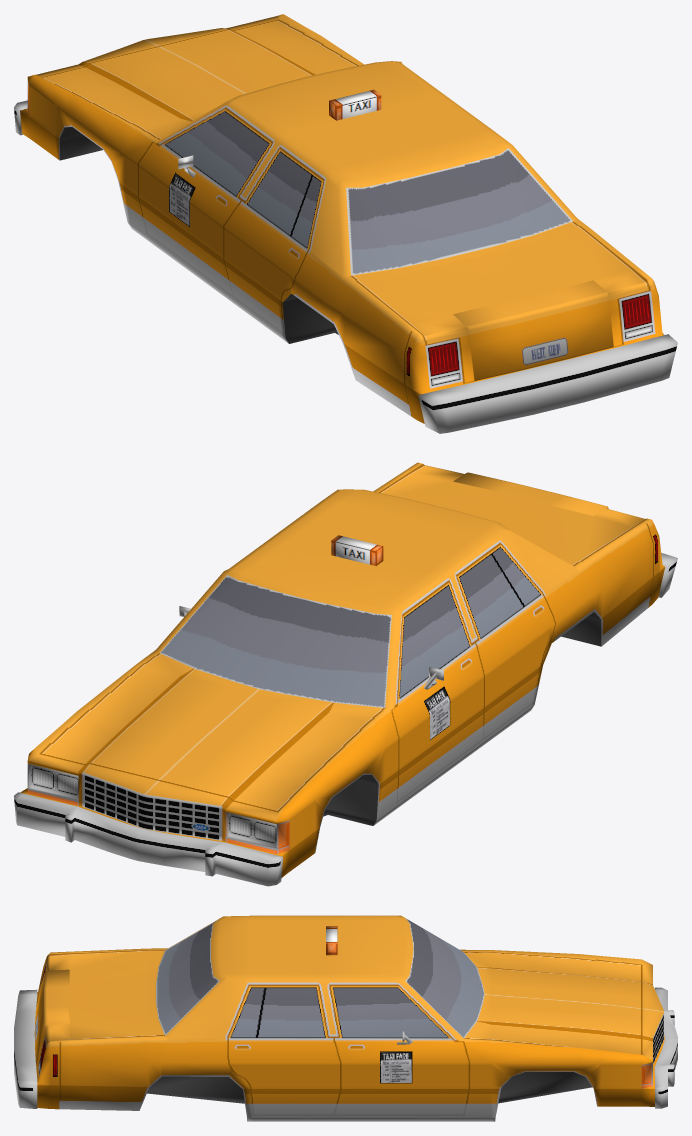
File: 86crownvictorialtdtaxi1.fbx
3 renders of one model, top to bottom at view 1: azimuth 30°, elevation 25°; view 2: azimuth 150°, elevation 25°; view 3: azimuth 270°, elevation 25°, orthographic. The views are drawn at different scales.
Parts seen in each view (by area): view 1: 86crownvictoria; view 2: 86crownvictoria; view 3: 86crownvictoria.
Boxes of the visible parts, left/top/right/bottom form: 86crownvictoria: left=14, top=14, right=677, bottom=433; 86crownvictoria: left=14, top=462, right=677, bottom=886; 86crownvictoria: left=14, top=915, right=677, bottom=1121.
Size of the model in its own units: 1.98 by 1.27 by 5.47.
